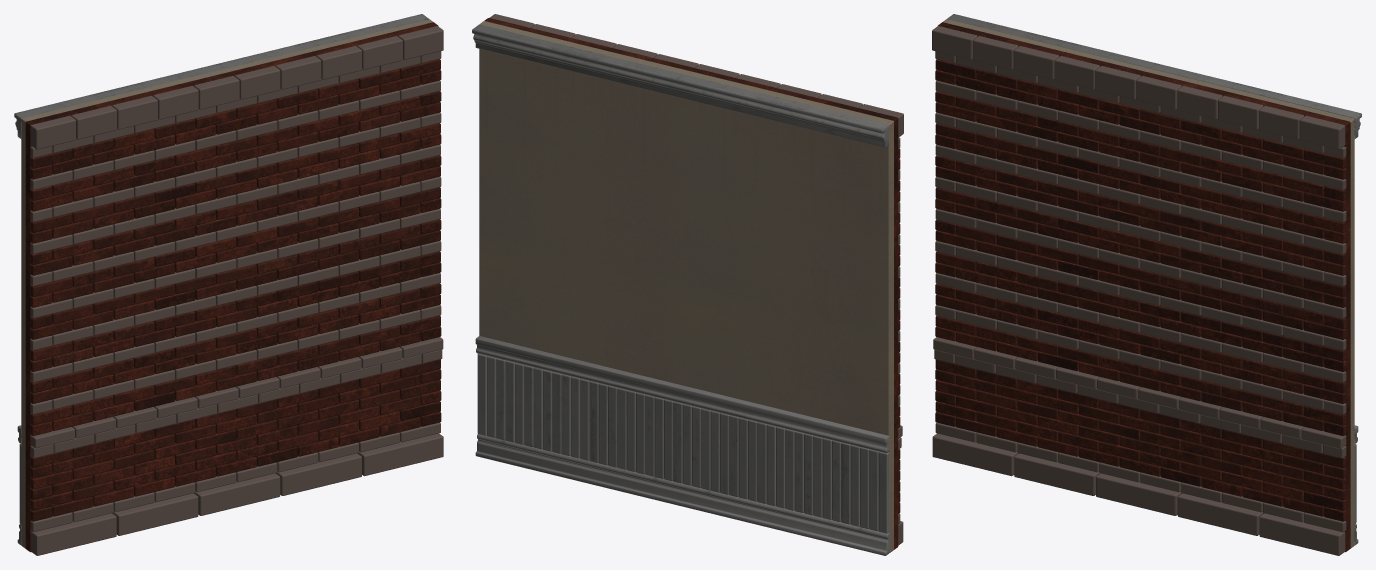
File: SK4 WALL 2.fbx
The picture shows the model from 3 angles, left to right: view 1: azimuth 30°, elevation 25°; view 2: azimuth 150°, elevation 25°; view 3: azimuth 330°, elevation 25°; orthographic projection.
Parts seen in each view (by area): view 1: SK4 WALL 2.002; view 2: SK4 WALL 2.002; view 3: SK4 WALL 2.002.
Part boxes in pixels (x1,y1,x2,y2): SK4 WALL 2.002: (14,14,443,555); SK4 WALL 2.002: (472,14,903,555); SK4 WALL 2.002: (932,14,1361,555).
Bounding box in the file's own units: 400 × 400 × 37.92.
